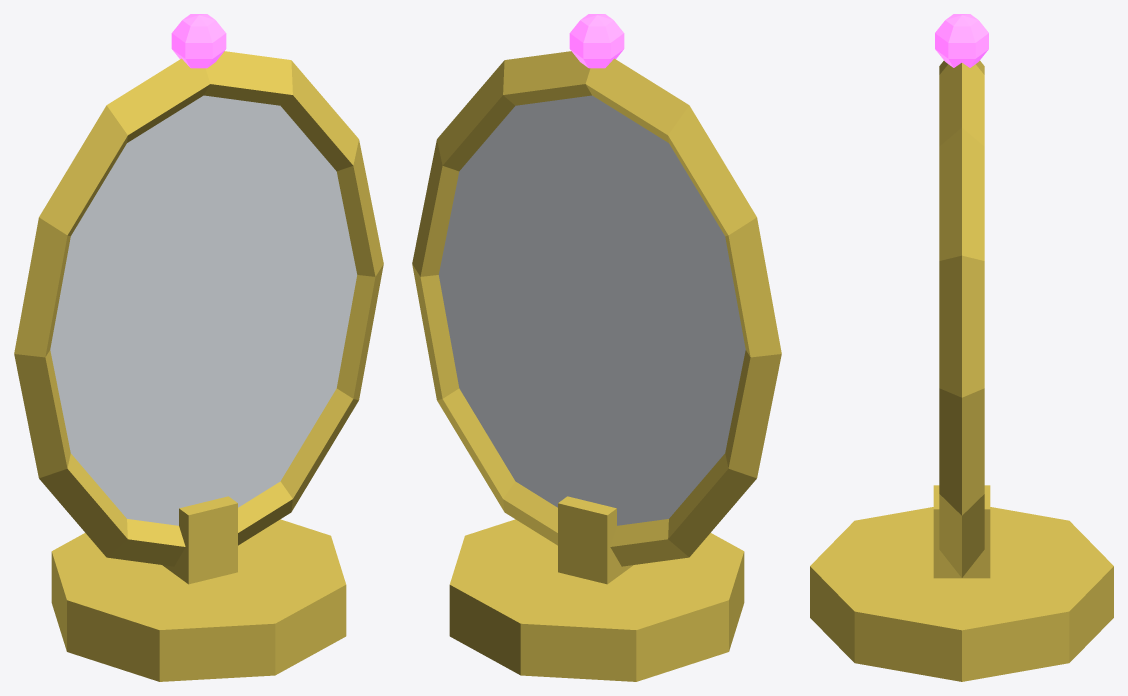
The model's file is std_mirror.glb.
3 renders of one model, left to right at view 1: azimuth 30°, elevation 25°; view 2: azimuth 150°, elevation 25°; view 3: azimuth 270°, elevation 25°, orthographic.
Parts seen in each view (by area): view 1: std_mirror; view 2: std_mirror; view 3: std_mirror.
Part boxes in pixels (bbox=[...]): std_mirror: bbox=[14, 14, 383, 681]; std_mirror: bbox=[412, 14, 781, 681]; std_mirror: bbox=[810, 14, 1113, 681].
Size of the model in its own units: 0.224 by 0.35 by 0.16.
